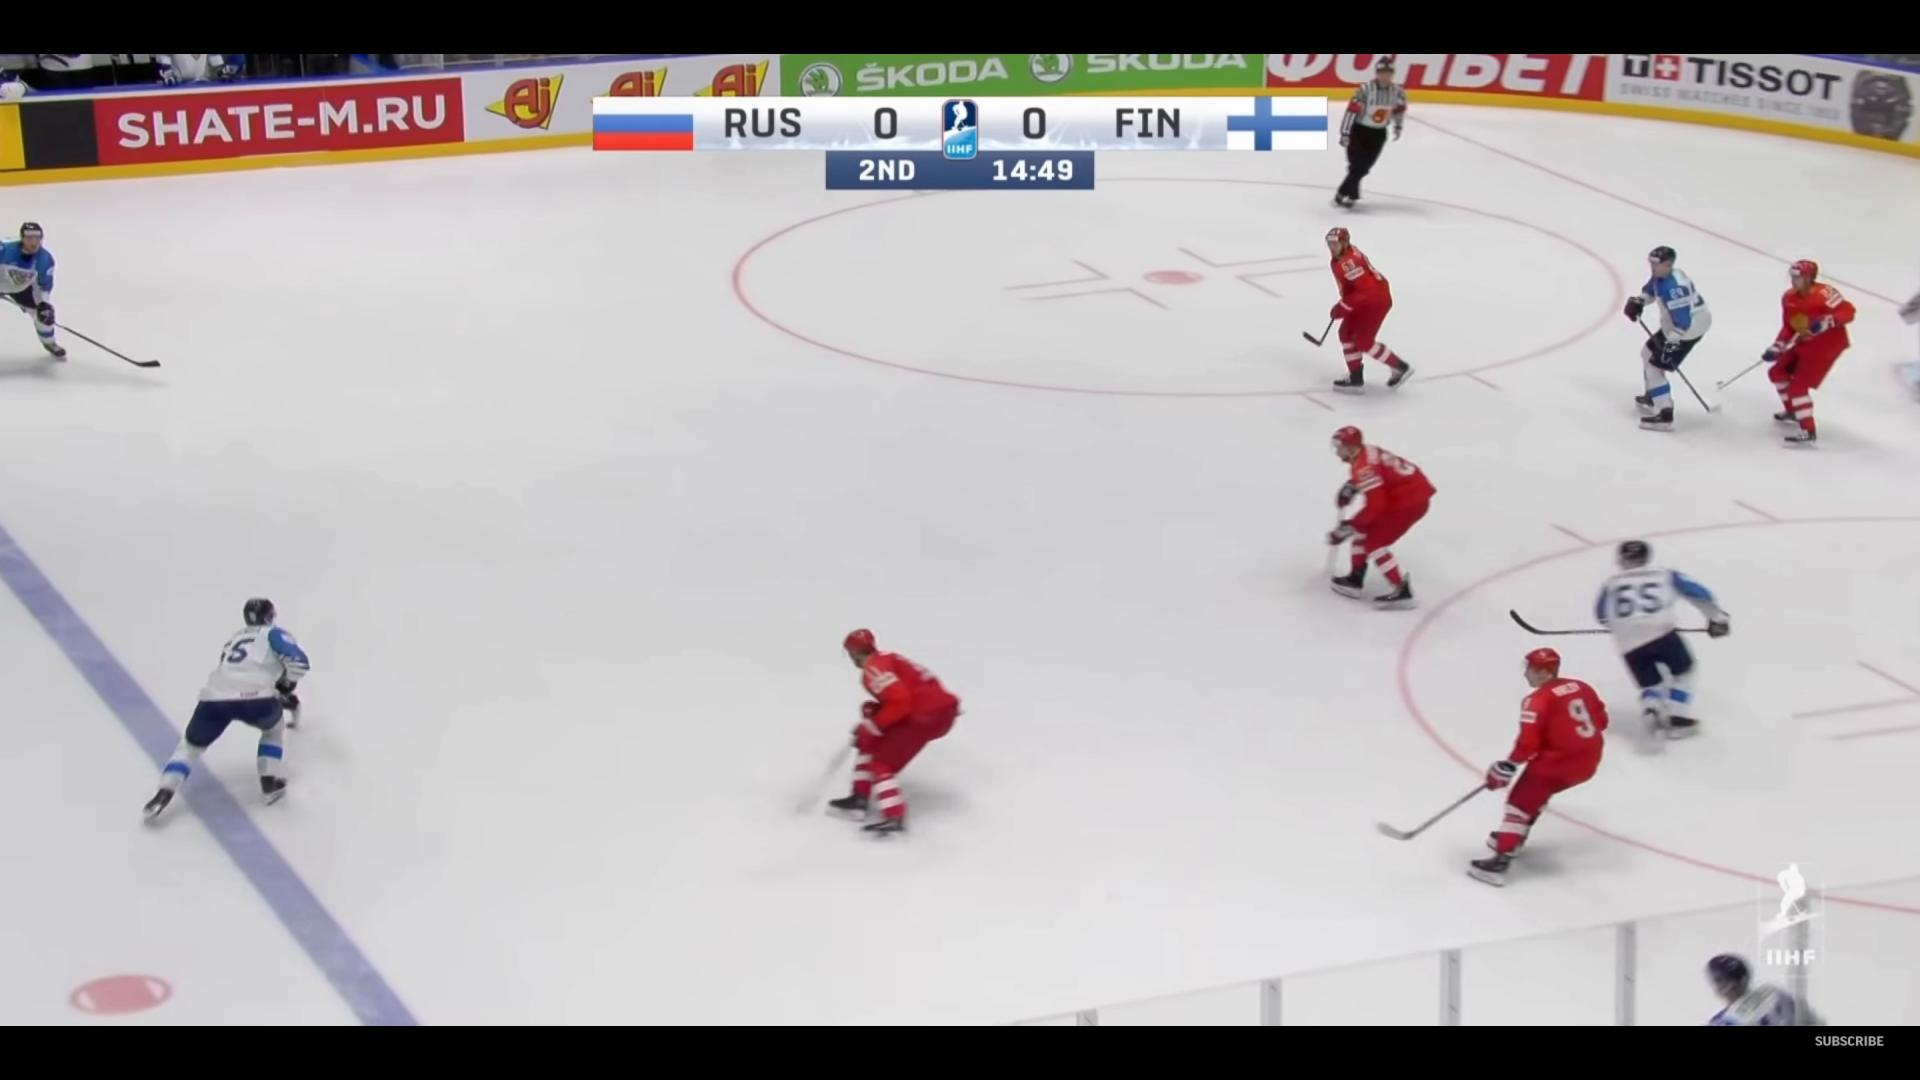puck: (285, 723, 294, 729)
